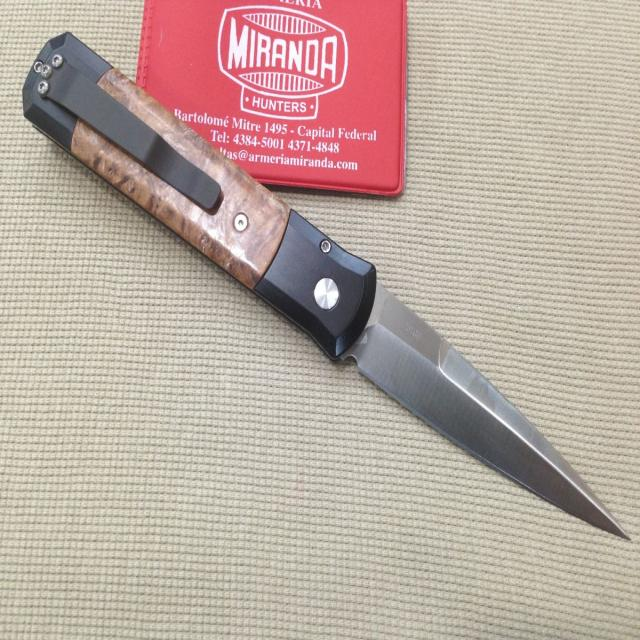knife: (15, 30, 636, 558)
